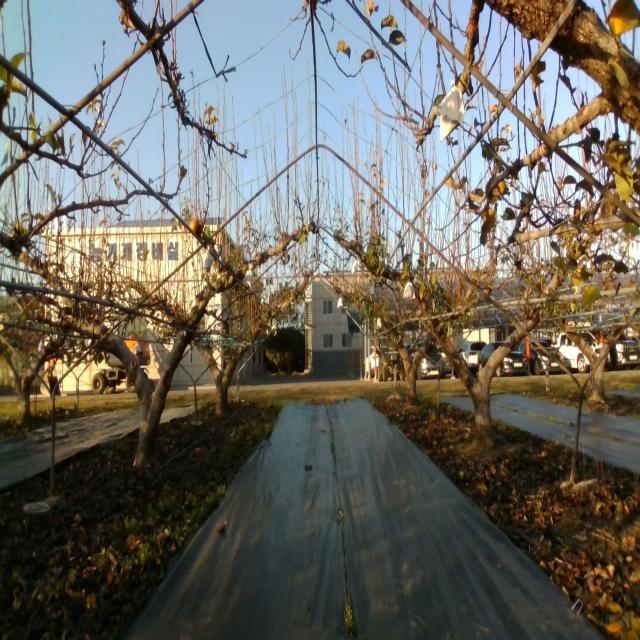pearbags: (440, 78, 466, 144), (202, 245, 212, 273), (402, 281, 416, 300), (244, 268, 254, 290)
